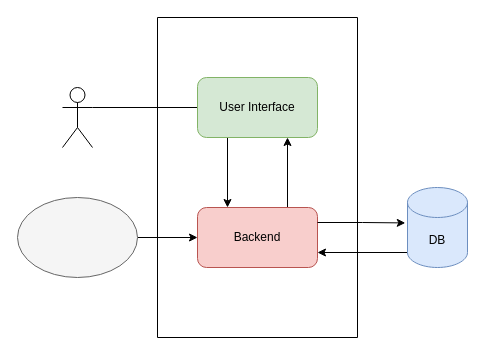
The diagram is 485 pixels wide and 355 high, and some of its shapes have lost their labels. Here are the shapes that lost their labels. From the top down, the box of each, then its label:
(62, 86, 92, 148): User
(16, 196, 138, 278): BLE Device Sensor
